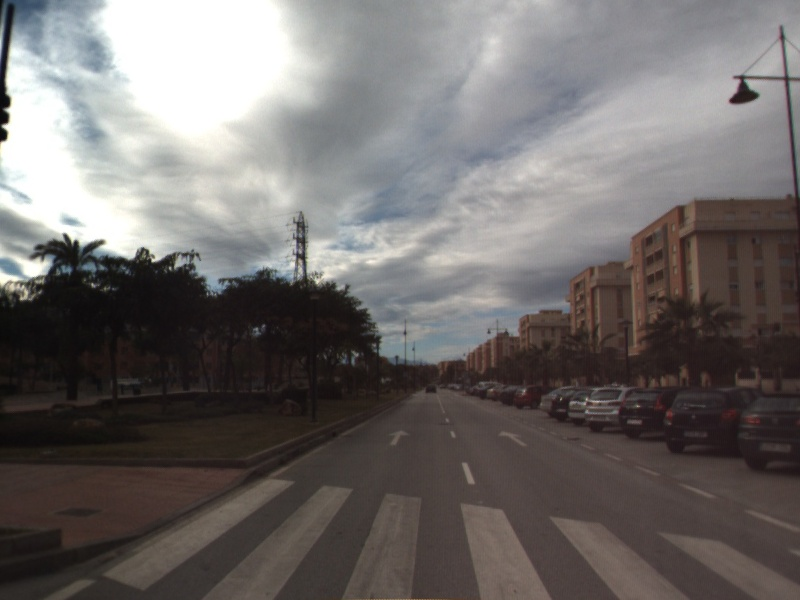STRAIGHT: (496, 428, 530, 448), (387, 428, 412, 447)
